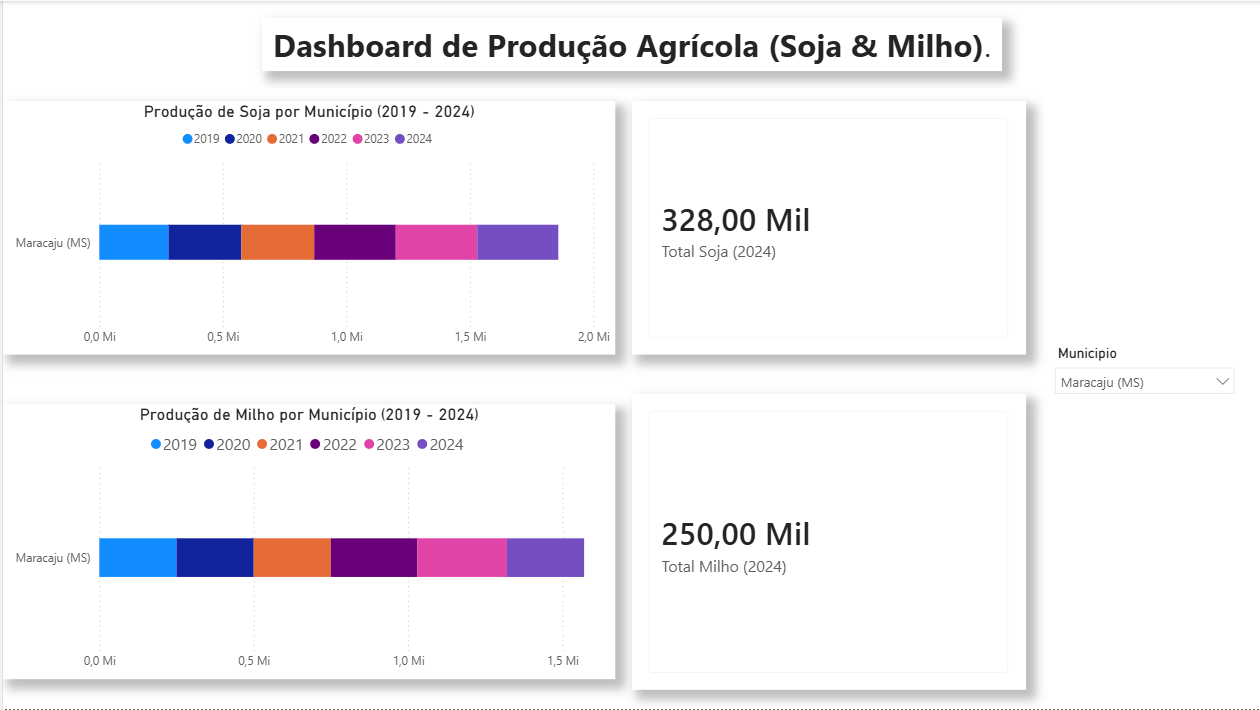

The dashboard page shown, as its layout file describes it:
{"tool":"powerbi","page":{"name":"Página 1","canvas":[1280,720],"ordinal":0},"visuals":[{"type":"barChart","title":"Produção de Soja por Município (2019 - 2024)","fields":{"Category":["public vw_producao_limpa.municipio"],"Y":["Sum(public vw_producao_limpa.soja_2019)","Sum(public vw_producao_limpa.soja_2020)","Sum(public vw_producao_limpa.soja_2021)","Sum(public vw_producao_limpa.soja_2022)","Sum(public vw_producao_limpa.soja_2023)","Sum(public vw_producao_limpa.soja_2024)"]},"box":[0,101.7,622.7,258.4],"z":0},{"type":"barChart","title":"Produção de Milho por Município (2019 - 2024)","fields":{"Category":["public vw_producao_limpa.municipio"],"Y":["Sum(public vw_producao_limpa.milho_2019)","Sum(public vw_producao_limpa.milho_2020)","Sum(public vw_producao_limpa.milho_2021)","Sum(public vw_producao_limpa.milho_2022)","Sum(public vw_producao_limpa.milho_2023)","Sum(public vw_producao_limpa.milho_2024)"]},"box":[0,410,622.7,279.8],"z":1},{"type":"slicer","fields":{"Values":["public vw_producao_limpa.municipio"]},"box":[1060.2,344.9,203.5,73.3],"z":2},{"type":"cardVisual","fields":{"Data":["Sum(public vw_producao_limpa.soja_2024)"]},"box":[640,101.7,400.9,258.4],"z":3},{"type":"cardVisual","fields":{"Data":["Sum(public vw_producao_limpa.milho_2024)"]},"box":[640,399.9,400.9,301.2],"z":4},{"type":"textbox","box":[263.5,17.3,752.9,53.9],"z":5}]}

Visuals, with their boxes in screenshot pixels (x1, y1, x2, y2), scaled from the page's 1280x720 canvas onto the 1260x710 screenshot:
"Produção de Soja por Município (2019 - 2024)" barChart: <box>0,100,613,355</box>
"Produção de Milho por Município (2019 - 2024)" barChart: <box>0,404,613,680</box>
slicer - public vw_producao_limpa.municipio: <box>1044,340,1244,412</box>
cardVisual - Sum(public vw_producao_limpa.soja_2024): <box>630,100,1025,355</box>
cardVisual - Sum(public vw_producao_limpa.milho_2024): <box>630,394,1025,691</box>
textbox: <box>259,17,1001,70</box>
